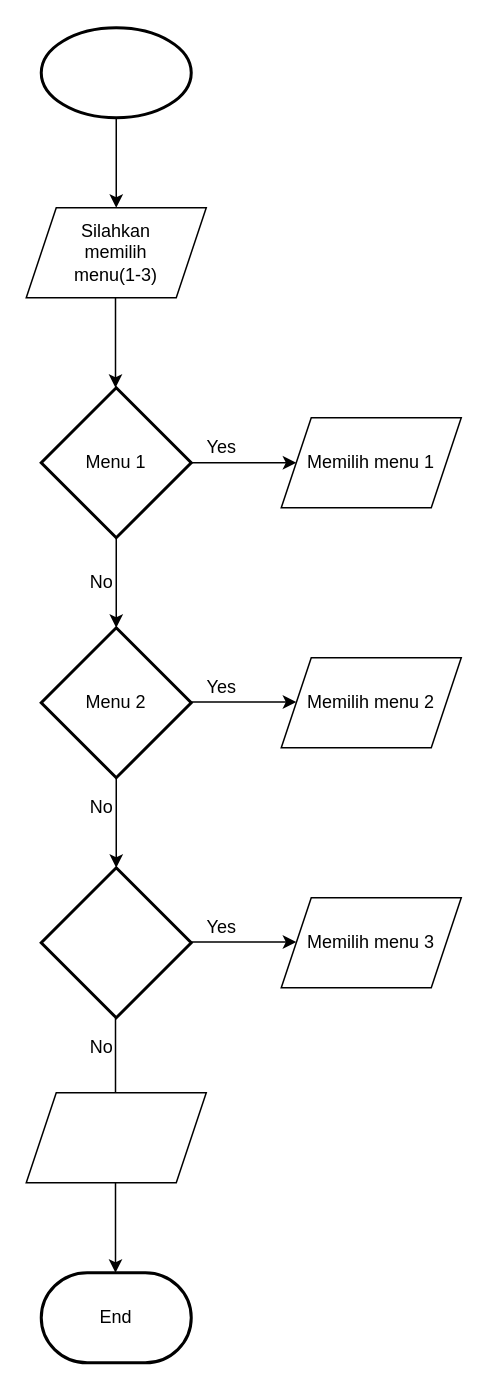
The diagram is 488 pixels wide and 1389 high, and some of its shapes have lost their labels. The centre of each missing label's shape, as x and y in pixels:
"Menu 3" goes at point (115, 942).
"Menu Tidak Tersedia" goes at point (115, 1137).
"Start" goes at point (115, 72).
